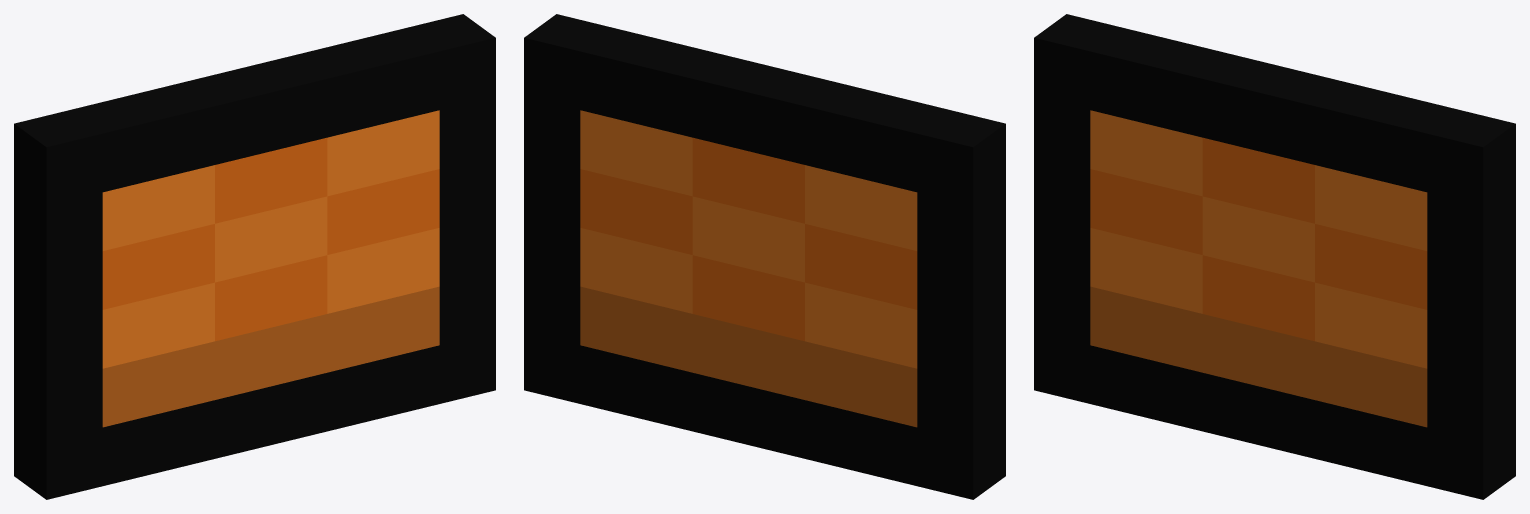
The model's file is Orange Carpet.glb.
3 renders of one model, left to right at view 1: azimuth 30°, elevation 25°; view 2: azimuth 150°, elevation 25°; view 3: azimuth 330°, elevation 25°, orthographic.
Visible parts, largest first — view 1: generated(Clone); view 2: generated(Clone); view 3: generated(Clone).
Boxes of the visible parts, box(x1,y1,x2,y2) form: generated(Clone): box(14, 14, 495, 499); generated(Clone): box(524, 14, 1005, 499); generated(Clone): box(1034, 14, 1515, 499).
Bounding box in the file's own units: 8 × 6 × 1.
Materials: 1 (1 with a texture image).
